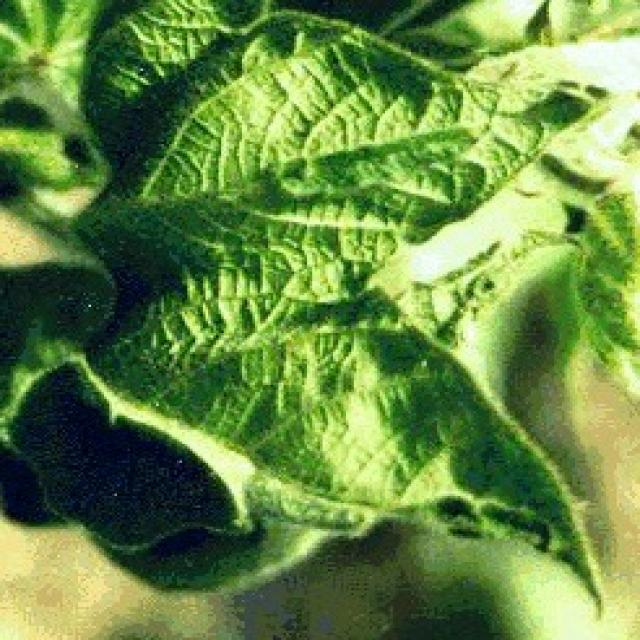Leaf Curl Virus: (118, 45, 468, 424)
